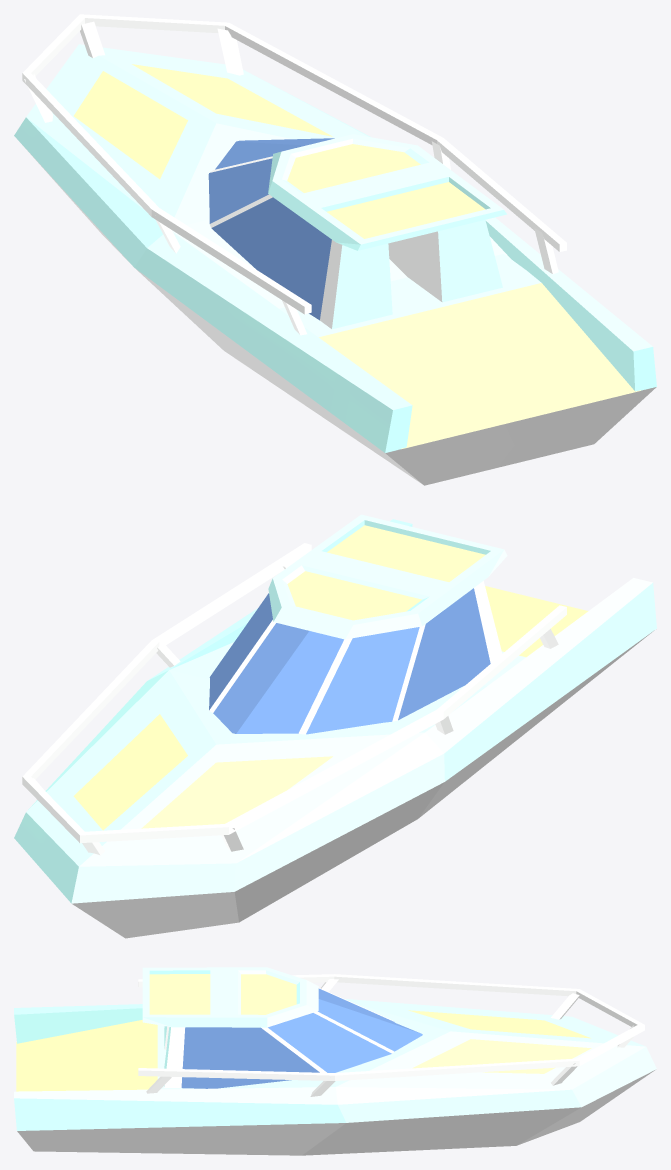
File: transport_water.008.glb
3 views of the same model, one above another, from view 1: azimuth 30°, elevation 25°; view 2: azimuth 150°, elevation 25°; view 3: azimuth 270°, elevation 25° (orthographic). The views are drawn at different scales.
Visible parts, largest first — view 1: transport_water.008(Clone); view 2: transport_water.008(Clone); view 3: transport_water.008(Clone).
Boxes of the visible parts, x1=… form: transport_water.008(Clone): x1=14, y1=14, x2=656, y2=485; transport_water.008(Clone): x1=14, y1=514, x2=656, y2=938; transport_water.008(Clone): x1=14, y1=967, x2=656, y2=1155.
Size of the model in its own units: 4.76 by 2.66 by 11.98.
Materials: 1 (1 with a texture image).
